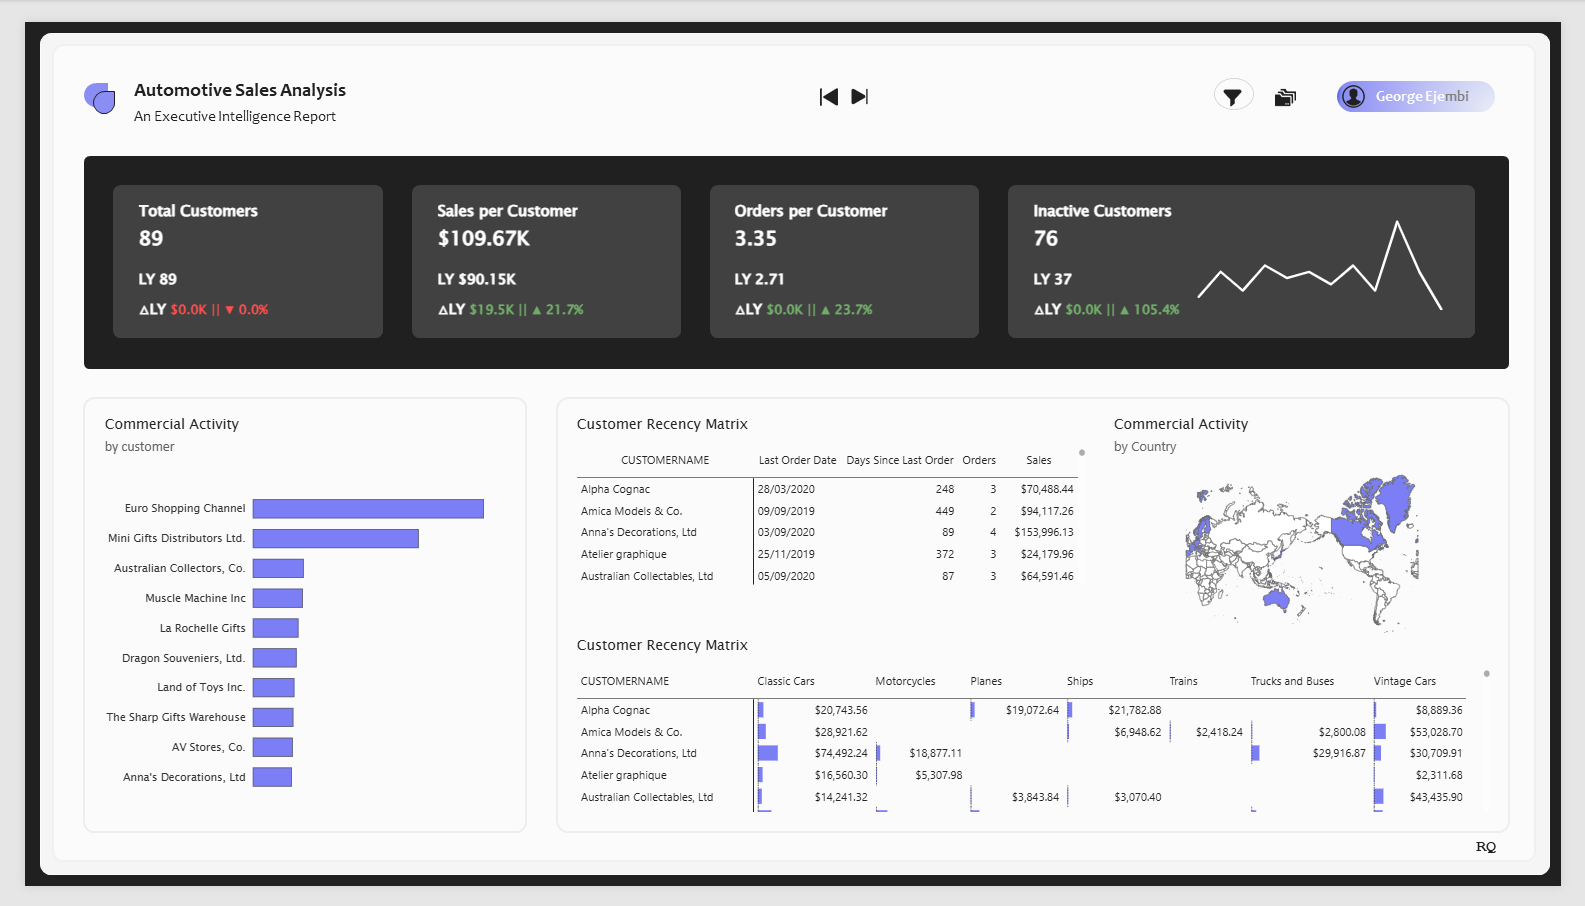

The page's visual inventory and layout, read from the dashboard file:
{"tool":"powerbi","page":{"name":"DB 2","canvas":[1920,1080],"ordinal":1},"visuals":[{"type":"shapeMap","title":"Commercial Activity","fields":{"Category":["Auto Sales data.Country Clean"],"Value":["Folders.Total Sales"]},"box":[1341.2,476.2,506.2,302.5],"z":0},{"type":"clusteredBarChart","title":"Commercial Activity","fields":{"Category":["Auto Sales data.CUSTOMERNAME"],"Y":["Folders.Total Sales"]},"box":[83.8,476.2,533.8,527.5],"z":1000},{"type":"pivotTable","title":"Customer Recency Matrix","fields":{"Columns":["Auto Sales data.PRODUCTLINE"],"Rows":["Auto Sales data.CUSTOMERNAME"],"Values":["Folders.Total Sales"]},"box":[673.8,752.5,1173.8,251.2],"z":2000},{"type":"pivotTable","title":"Customer Recency Matrix","fields":{"Rows":["Auto Sales data.CUSTOMERNAME"],"Values":["Folders.Last Order Date","Folders.Average Days Since Last Order","Folders.Total Orders","Folders.Total Sales"]},"box":[673.8,476.2,667.5,242.5],"z":3000},{"type":"cardVisual","fields":{"Data":["Folders.Total Customers"]},"box":[126.2,218.8,305,157.5],"z":4000},{"type":"cardVisual","fields":{"Data":["Folders.Sales per Customer"]},"box":[500,218.8,305,157.5],"z":5000},{"type":"cardVisual","fields":{"Data":["Folders.Orders per Customer"]},"box":[871.2,218.8,305,157.5],"z":6000},{"type":"cardVisual","fields":{"Data":["Folders.Inactive Customers"]},"box":[1245,218.8,305,157.5],"z":7000},{"type":"lineChart","title":"Total Sales ","fields":{"Category":["Date Table.Month Name"],"Y":["Folders.Inactive Customers"]},"box":[1440,218.8,357.5,157.5],"z":8000},{"type":"actionButton","title":"Filter Button","box":[1485.7,70,50,40],"z":9000},{"type":"actionButton","box":[983.8,70,41.2,51.2],"z":10001}]}

Visuals, with their boxes in screenshot pixels (x1, y1, x2, y2), scaled from the page's 1920x1080 canvas onto the 1585x906 screenshot:
"Commercial Activity" shapeMap: rect(1107, 399, 1525, 653)
"Commercial Activity" clusteredBarChart: rect(69, 399, 510, 842)
"Customer Recency Matrix" pivotTable: rect(556, 631, 1525, 842)
"Customer Recency Matrix" pivotTable: rect(556, 399, 1107, 603)
cardVisual - Folders.Total Customers: rect(104, 184, 356, 316)
cardVisual - Folders.Sales per Customer: rect(413, 184, 665, 316)
cardVisual - Folders.Orders per Customer: rect(719, 184, 971, 316)
cardVisual - Folders.Inactive Customers: rect(1028, 184, 1280, 316)
"Total Sales " lineChart: rect(1189, 184, 1484, 316)
"Filter Button" actionButton: rect(1226, 59, 1268, 92)
actionButton: rect(812, 59, 846, 102)
